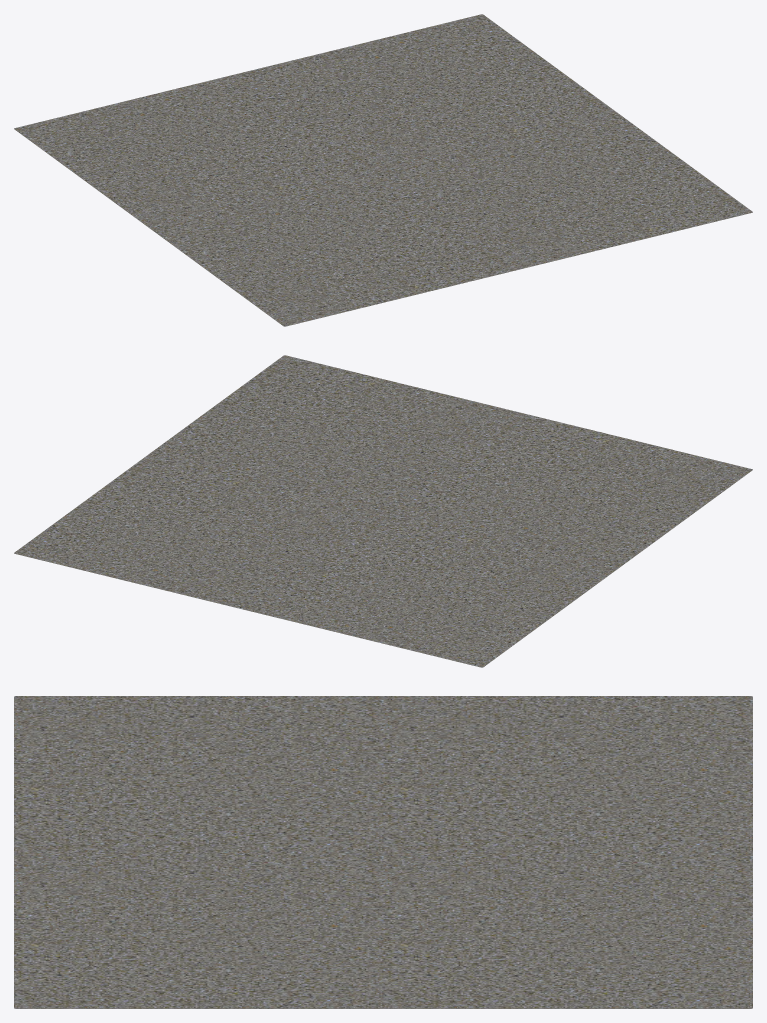
Rendered from PAV-CAL-001_anim.glb.
3 views of the same model, one above another, from view 1: azimuth 30°, elevation 25°; view 2: azimuth 150°, elevation 25°; view 3: azimuth 270°, elevation 25° (orthographic). The views are drawn at different scales.
Parts seen in each view (by area): view 1: PAV-CAL-001_anim0; view 2: PAV-CAL-001_anim0; view 3: PAV-CAL-001_anim0.
Boxes of the visible parts, bbox=[...] form: PAV-CAL-001_anim0: bbox=[14, 14, 752, 326]; PAV-CAL-001_anim0: bbox=[14, 355, 752, 667]; PAV-CAL-001_anim0: bbox=[14, 696, 752, 1008].
Bounding box in the file's own units: 1 × 0.0501 × 1.
Materials: 2 (2 with a texture image).
